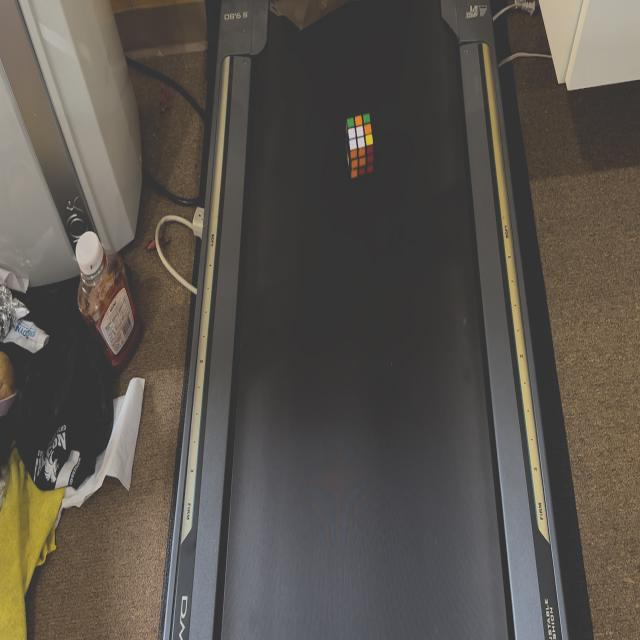Trash: (344, 115, 376, 183)
